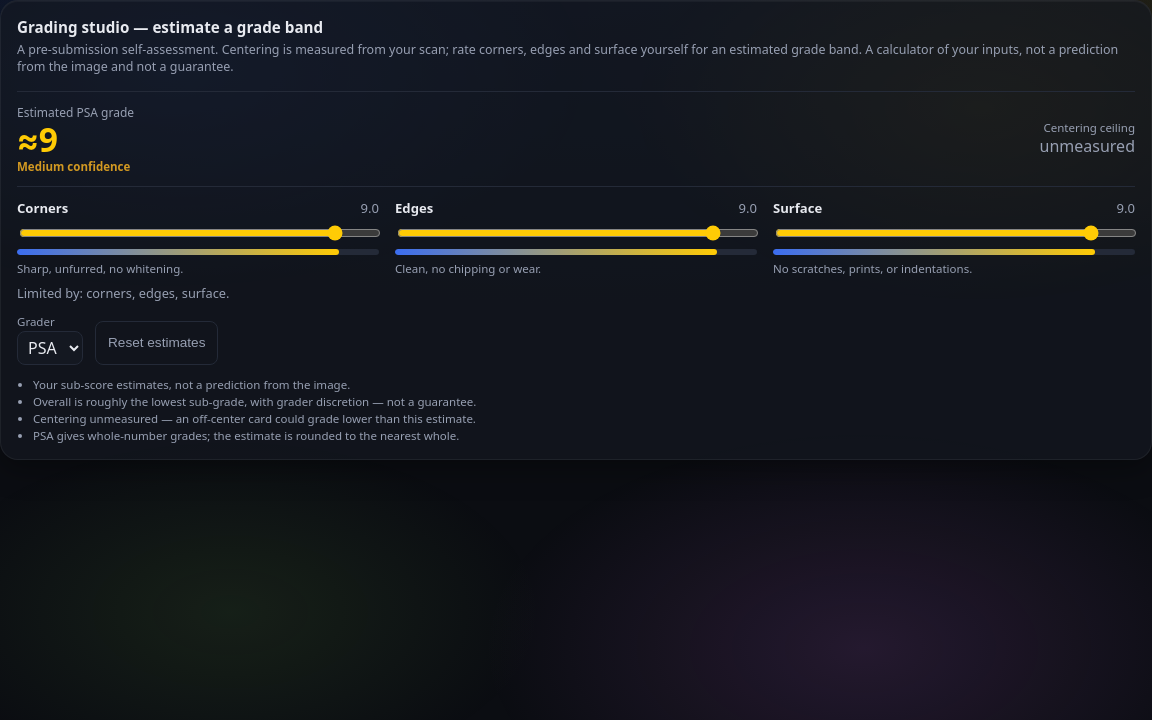
Scenario: GradingStudio › updates the estimate when a slider changes
Step 1. Set the slider labelled "Surface 9.0 No scratches, prints, or indentations." to "7" → (1014, 233), box [775,225,1137,241]
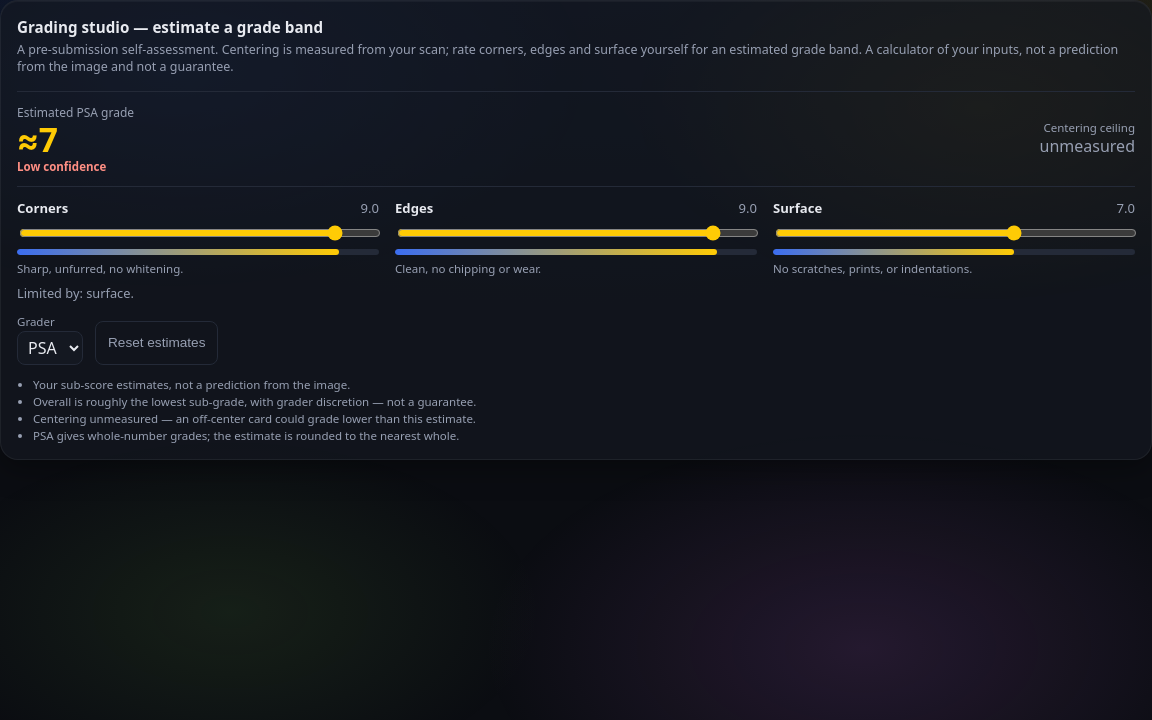
Now the text "≈7" is shown, box [17,116,58,162]
